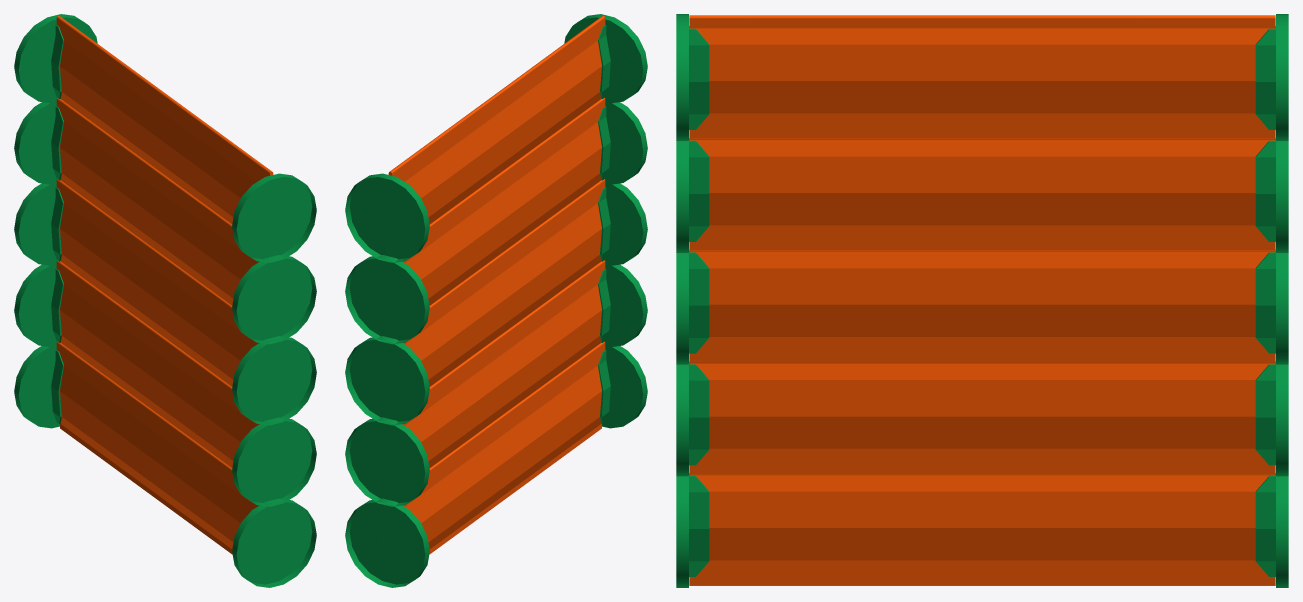
The model's file is Zaslonka1Close.FBX.
3 renders of one model, left to right at view 1: azimuth 30°, elevation 25°; view 2: azimuth 150°, elevation 25°; view 3: azimuth 270°, elevation 25°, orthographic. The views are drawn at different scales.
Visible parts, largest first — view 1: Zaslonka; view 2: Zaslonka; view 3: Zaslonka.
Boxes of the visible parts, x1,y1,x2,y2 form: Zaslonka: [14, 14, 316, 587]; Zaslonka: [345, 14, 647, 587]; Zaslonka: [676, 14, 1288, 587].
Size of the model in its own units: 91.32 by 450 by 439.
